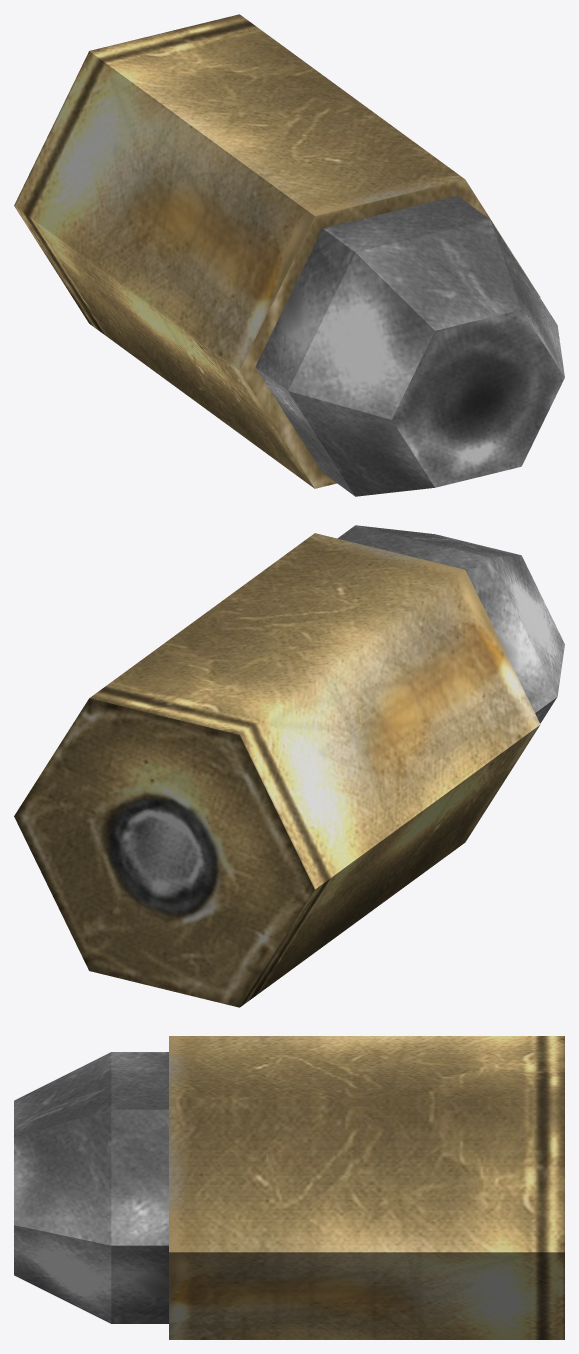
File: lowpolybullet.dae
3 views of the same model, one above another, from view 1: azimuth 30°, elevation 25°; view 2: azimuth 150°, elevation 25°; view 3: azimuth 270°, elevation 25° (orthographic). The views are drawn at different scales.
Visible parts, largest first — view 1: bullet; view 2: bullet; view 3: bullet.
Boxes of the visible parts, box(x1,y1,x2,y2) form: bullet: box(14, 14, 564, 496); bullet: box(14, 525, 564, 1007); bullet: box(14, 1036, 564, 1339).
Size of the model in its own units: 2 by 1.73 by 3.61.
1 material, 1 textured.
